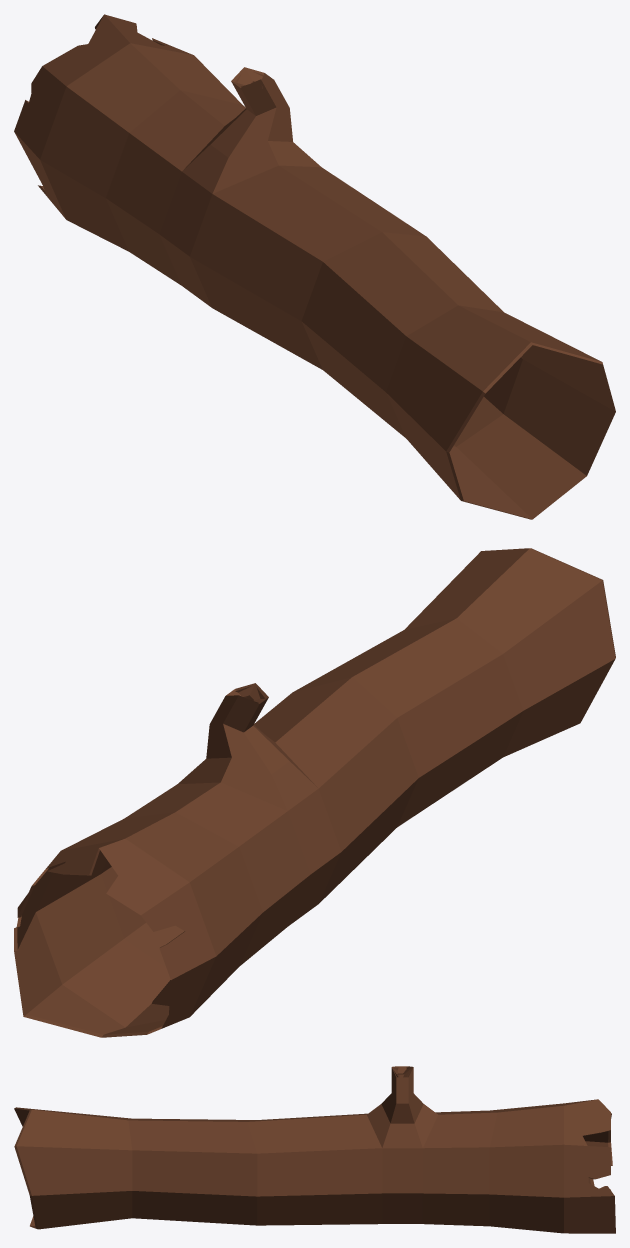
File: log2.glb
The picture shows the model from 3 angles, top to bottom: view 1: azimuth 30°, elevation 25°; view 2: azimuth 150°, elevation 25°; view 3: azimuth 270°, elevation 25°; orthographic projection. The views are drawn at different scales.
Visible parts, largest first — view 1: trunck; view 2: trunck; view 3: trunck.
Part boxes in pixels (<box>): trunck: <box>14,14,615,519</box>; trunck: <box>14,548,615,1037</box>; trunck: <box>14,1066,615,1233</box>.
Size of the model in its own units: 1.53 by 2 by 6.64.
